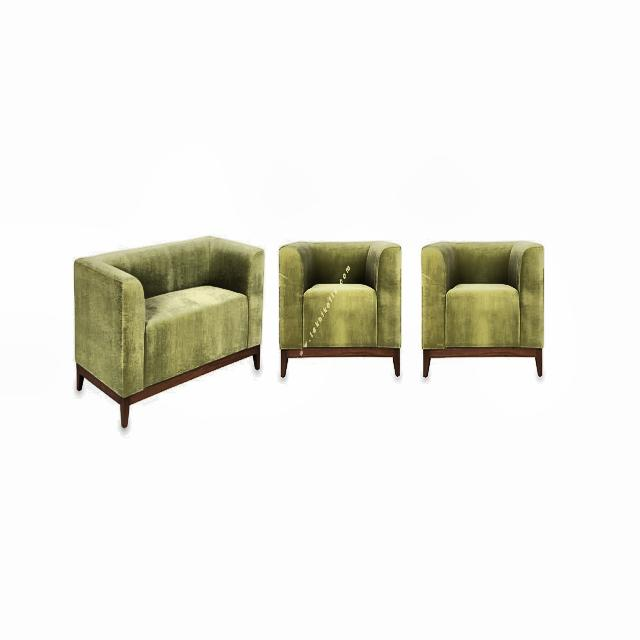sofa: (73, 234, 265, 428), (420, 238, 544, 378), (278, 238, 402, 378)
